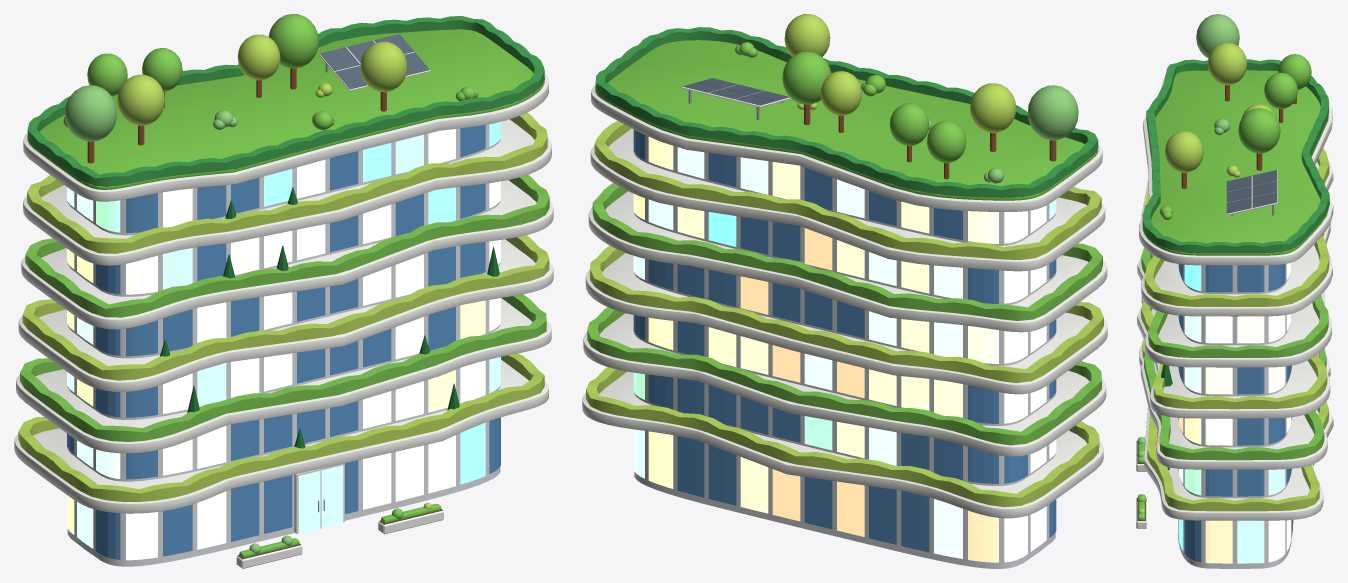
File: predio_curvo_ondas.glb
3 renders of one model, left to right at view 1: azimuth 30°, elevation 25°; view 2: azimuth 150°, elevation 25°; view 3: azimuth 270°, elevation 25°, orthographic. The views are drawn at different scales.
Visible parts, largest first — view 1: predio_curvo_ondas; view 2: predio_curvo_ondas; view 3: predio_curvo_ondas.
Part boxes in pixels (<box>): predio_curvo_ondas: <box>14,14,553,568</box>; predio_curvo_ondas: <box>582,14,1107,568</box>; predio_curvo_ondas: <box>1136,14,1333,568</box>.
Bounding box in the file's own units: 25.4 × 24.49 × 11.19.
Materials: 7 (1 with a texture image).
